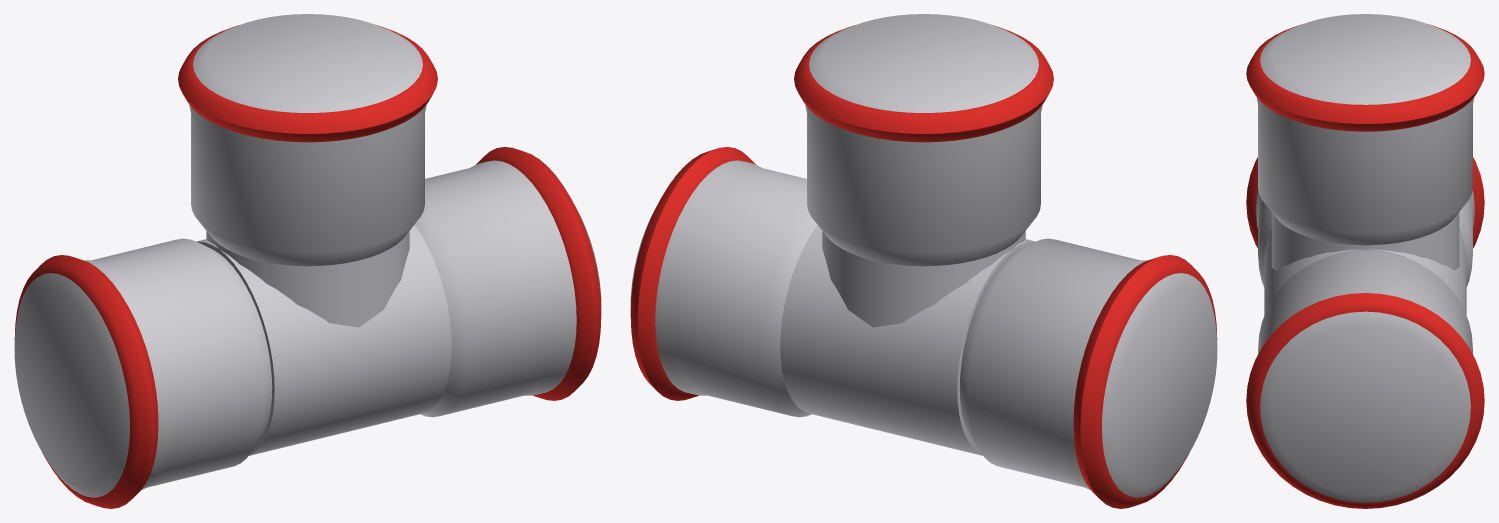
Rendered from fitting_tee_35_r.glb.
3 renders of one model, left to right at view 1: azimuth 30°, elevation 25°; view 2: azimuth 150°, elevation 25°; view 3: azimuth 270°, elevation 25°, orthographic. The views are drawn at different scales.
Visible parts, largest first — view 1: раструб.001, раструб.002, раструб, узел, кольцо пресс.001, кольцо пресс.002, корпус.001, кольцо пресс; view 2: раструб.001, раструб.002, раструб, узел, кольцо пресс.001, кольцо пресс.002, корпус.001, кольцо пресс; view 3: раструб, раструб.002, кольцо пресс, кольцо пресс.002, корпус.001, узел, раструб.001, кольцо пресс.001.
Part boxes in pixels (x1,y1,x2,y2): раструб.001: (14, 238, 272, 497); раструб.002: (189, 14, 426, 266); раструб: (414, 160, 601, 417); узел: (197, 225, 451, 455); кольцо пресс.001: (14, 255, 158, 508); кольцо пресс.002: (178, 25, 437, 142); корпус.001: (206, 231, 409, 327); кольцо пресс: (476, 147, 601, 400); раструб.001: (959, 238, 1217, 497); раструб.002: (805, 14, 1042, 266); раструб: (630, 160, 817, 417); узел: (780, 225, 1034, 455); кольцо пресс.001: (1073, 255, 1217, 508); кольцо пресс.002: (794, 25, 1053, 142); корпус.001: (822, 231, 1025, 327); кольцо пресс: (630, 147, 755, 400); раструб: (1258, 250, 1472, 502); раструб.002: (1256, 14, 1474, 245); кольцо пресс: (1246, 293, 1484, 508); кольцо пресс.002: (1246, 24, 1484, 131); корпус.001: (1271, 212, 1459, 270); узел: (1264, 228, 1466, 314); раструб.001: (1256, 190, 1474, 286); кольцо пресс.001: (1246, 157, 1484, 248).
Bounding box in the file's own units: 0.104 × 0.0797 × 0.0483.
